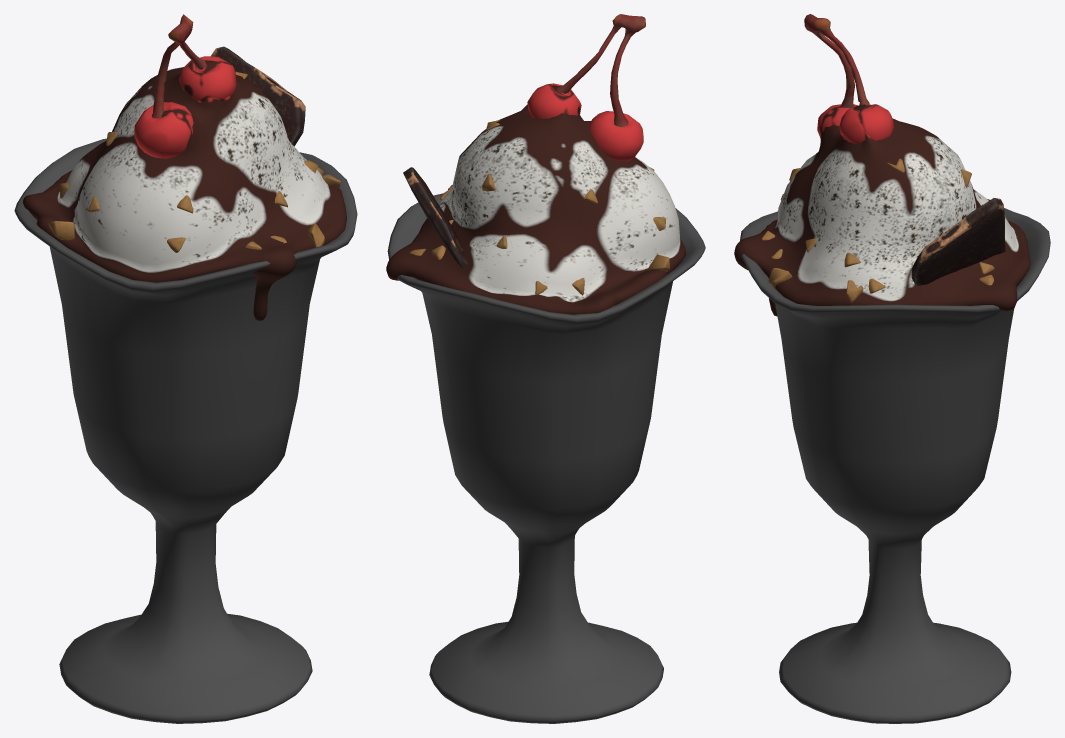
The model's file is sundae_-_sketchfab_low_poly_challenge_desserts.glb.
3 renders of one model, left to right at view 1: azimuth 30°, elevation 25°; view 2: azimuth 150°, elevation 25°; view 3: azimuth 270°, elevation 25°, orthographic. The views are drawn at different scales.
Visible parts, largest first — view 1: Glass_LP_Glass_0, Ice_LP_Ice-Cream_0, GeoSphere003; view 2: Glass_LP_Glass_0, Ice_LP_Ice-Cream_0, GeoSphere003; view 3: Glass_LP_Glass_0, Ice_LP_Ice-Cream_0, GeoSphere003.
Boxes of the visible parts, x1,y1,x2,y2 form: Glass_LP_Glass_0: (14,138,357,723); Ice_LP_Ice-Cream_0: (22,14,346,320); GeoSphere003: (48,71,340,252); Glass_LP_Glass_0: (387,193,705,723); Ice_LP_Ice-Cream_0: (386,14,686,314); GeoSphere003: (410,120,670,295); Glass_LP_Glass_0: (740,208,1050,723); Ice_LP_Ice-Cream_0: (734,14,1030,316); GeoSphere003: (761,158,1008,302).
Size of the model in its own units: 0.1762 by 0.4004 by 0.1792.
Materials: 3 (3 with a texture image).
